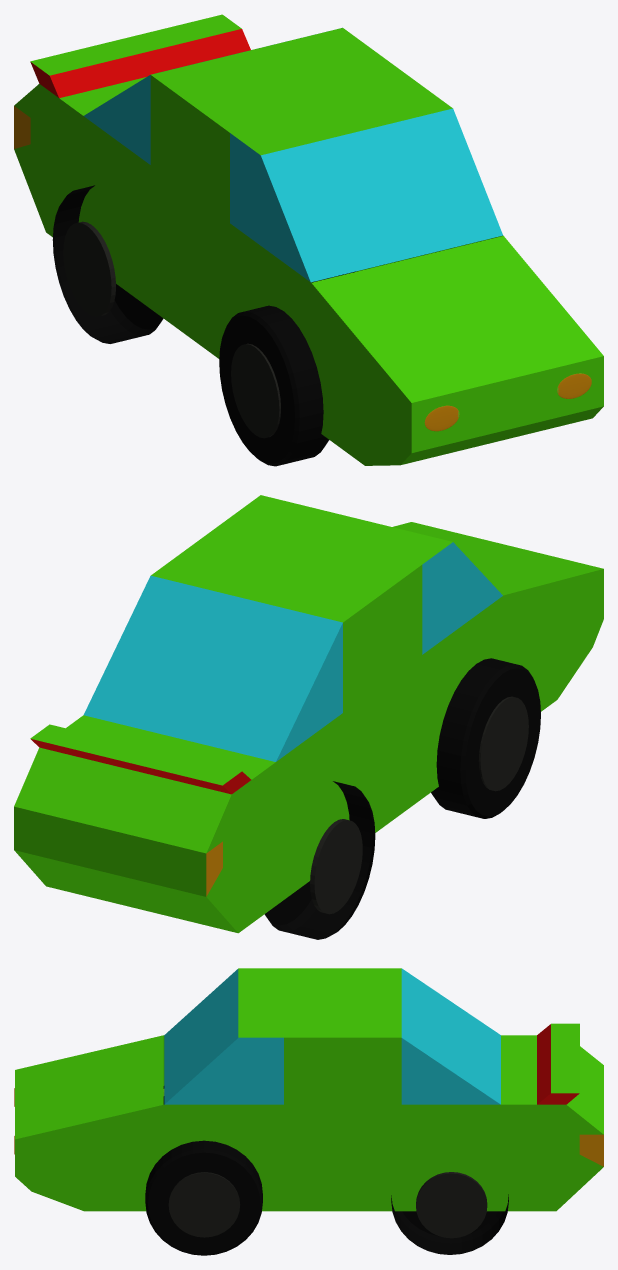
File: car2.obj
3 views of the same model, one above another, from view 1: azimuth 30°, elevation 25°; view 2: azimuth 150°, elevation 25°; view 3: azimuth 270°, elevation 25° (orthographic). The views are drawn at different scales.
Visible parts, largest first — view 1: Cubo; view 2: Cubo; view 3: Cubo.
Part boxes in pixels (box(x1,y1,x2,y2)): Cubo: box(14, 14, 603, 466); Cubo: box(14, 495, 603, 939); Cubo: box(14, 968, 603, 1255).
Size of the model in its own units: 3.66 by 3.93 by 10.04.
